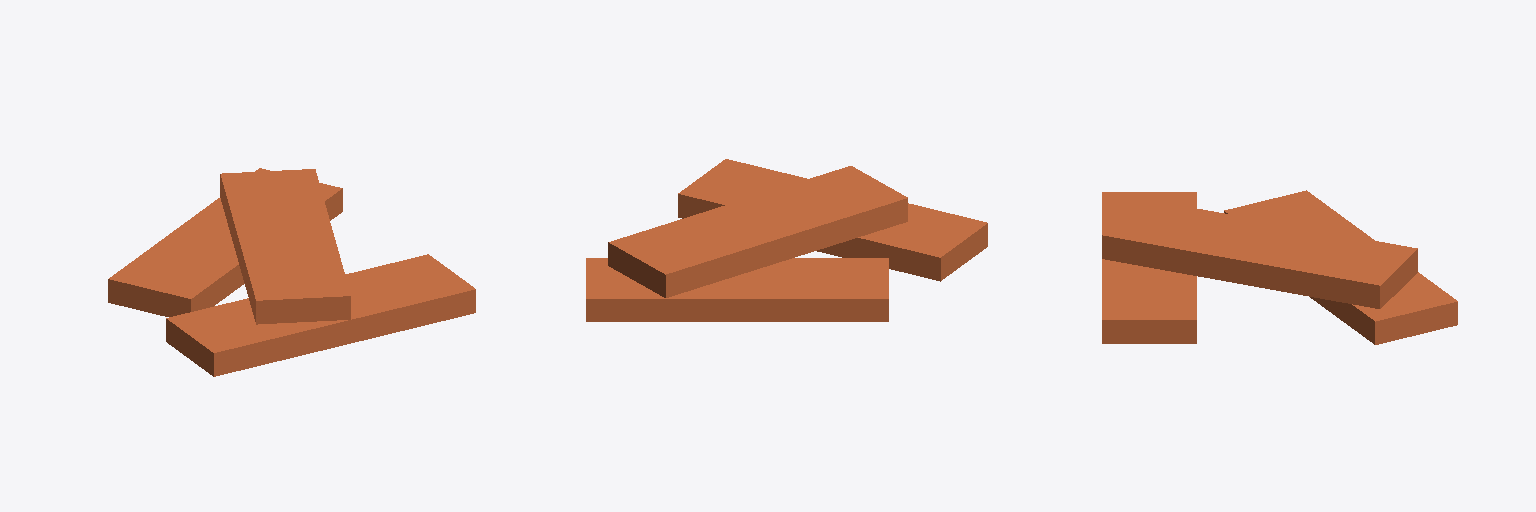
Rendered from debrisWood.obj.
3 views of the same model, side by side, from view 1: azimuth 30°, elevation 25°; view 2: azimuth 150°, elevation 25°; view 3: azimuth 270°, elevation 25° (orthographic).
Parts seen in each view (by area): view 1: debrisWood; view 2: debrisWood; view 3: debrisWood.
Boxes of the visible parts, box(x1,y1,x2,y2) form: debrisWood: box(108, 168, 475, 376); debrisWood: box(586, 159, 987, 321); debrisWood: box(1102, 190, 1457, 344).
Size of the model in its own units: 0.4669 by 0.0787 by 0.5364.